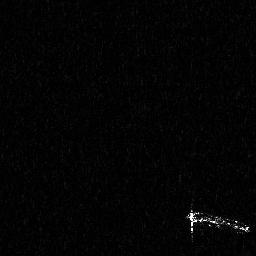ship: (185, 201, 251, 243)
